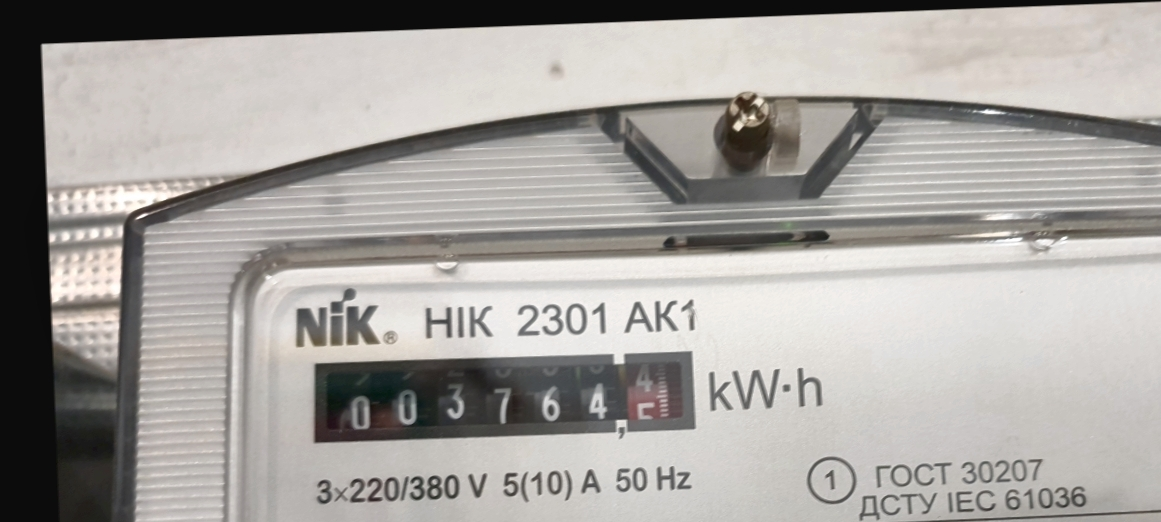0: (347, 394, 372, 433), (394, 389, 418, 429)
3: (442, 383, 466, 423)
4: (587, 383, 607, 423), (632, 363, 655, 396)
5: (633, 401, 656, 424)
6: (539, 385, 561, 425)
7: (490, 385, 515, 428)
screen: (296, 335, 710, 460)
